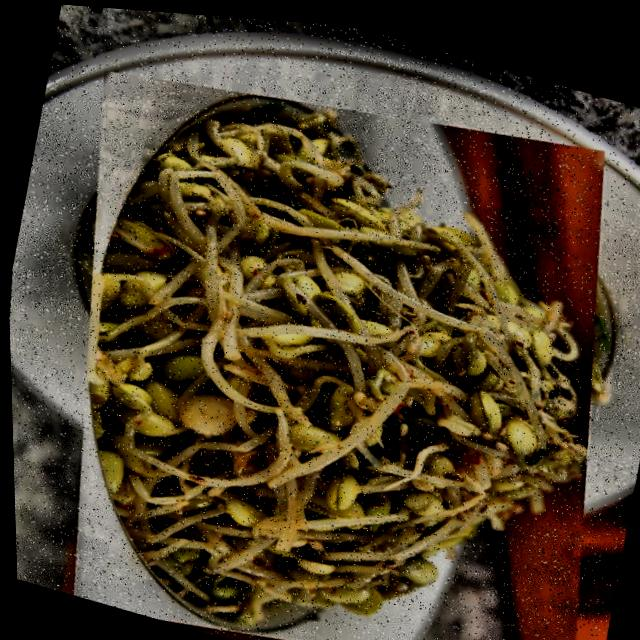Food: (0, 8, 640, 640)
